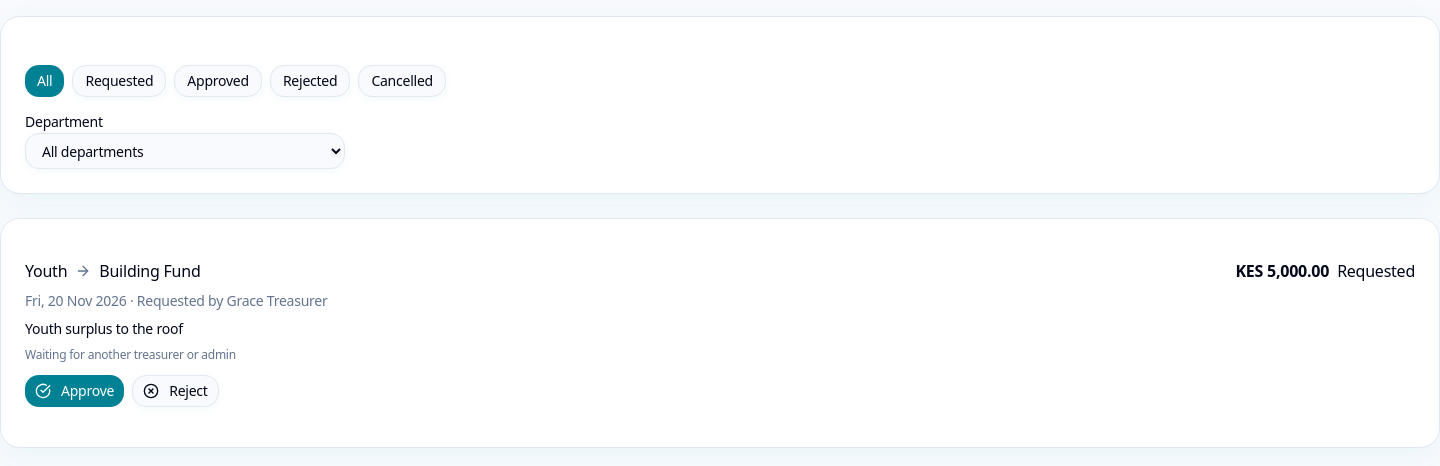
Test: row actions › approves, refetches and toasts
The width and height of the screenshot is (1440, 466).
Click the button "Approve": coordinates (75, 391) [25,375,124,407]
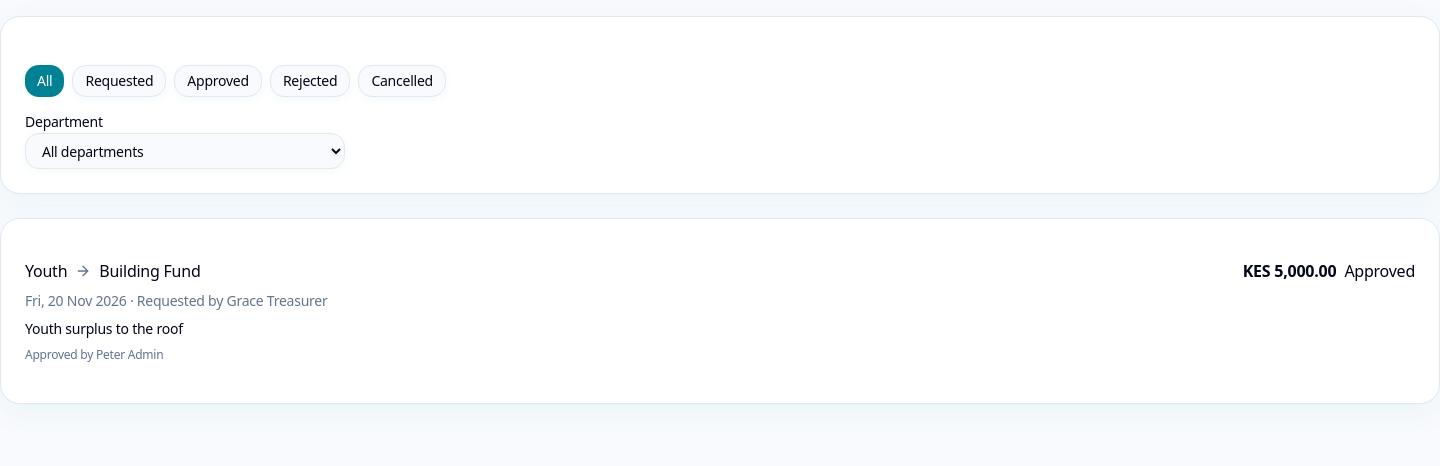
Now the list item with test id "fund-transfer-row" shows "Approved by Peter Admin", box [25,346,163,363]
